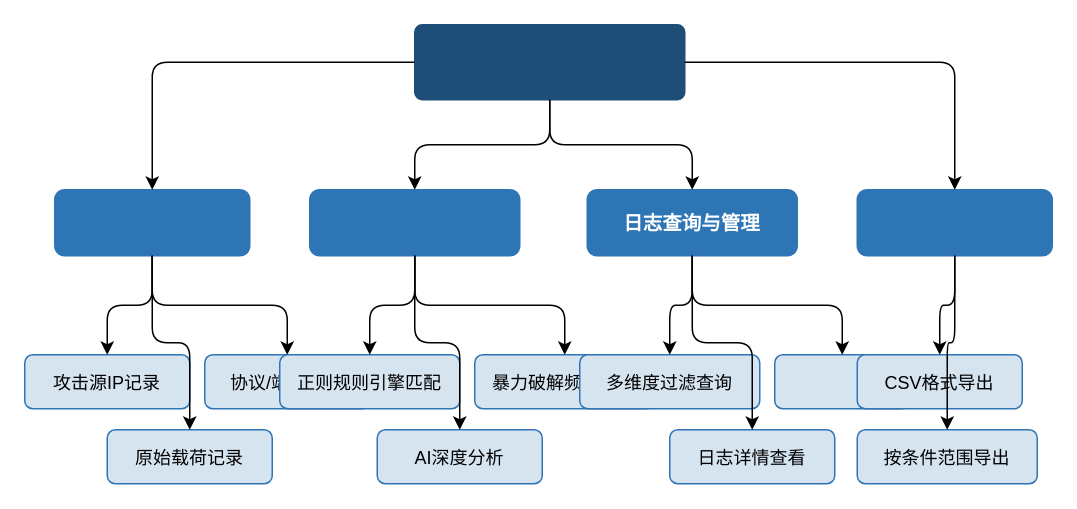
Image size: 1077x509. Some labels were removed from this diagram. The centre of each missing label's shape, as x and y in pixels:
"分页展示" belongs at point 841,381.
"恶意流量识别" belongs at point 414,222.
"日志导出" belongs at point 954,222.
"日志采集" belongs at point 151,222.
"流量日志模块" belongs at point 549,61.
